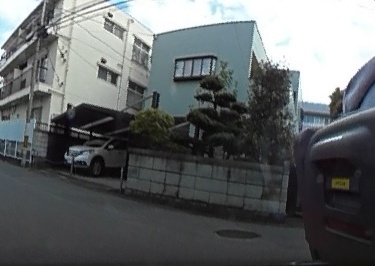person: (350, 21, 375, 245)
